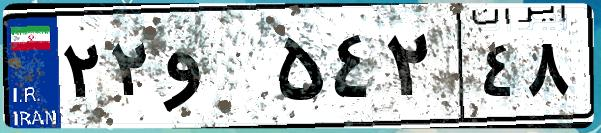2: (385, 28, 445, 110), (57, 26, 110, 100), (110, 28, 158, 98)
4: (330, 28, 385, 110), (475, 38, 525, 113)
5: (270, 28, 330, 110)
8: (525, 38, 570, 115)
و: (158, 20, 270, 120)
